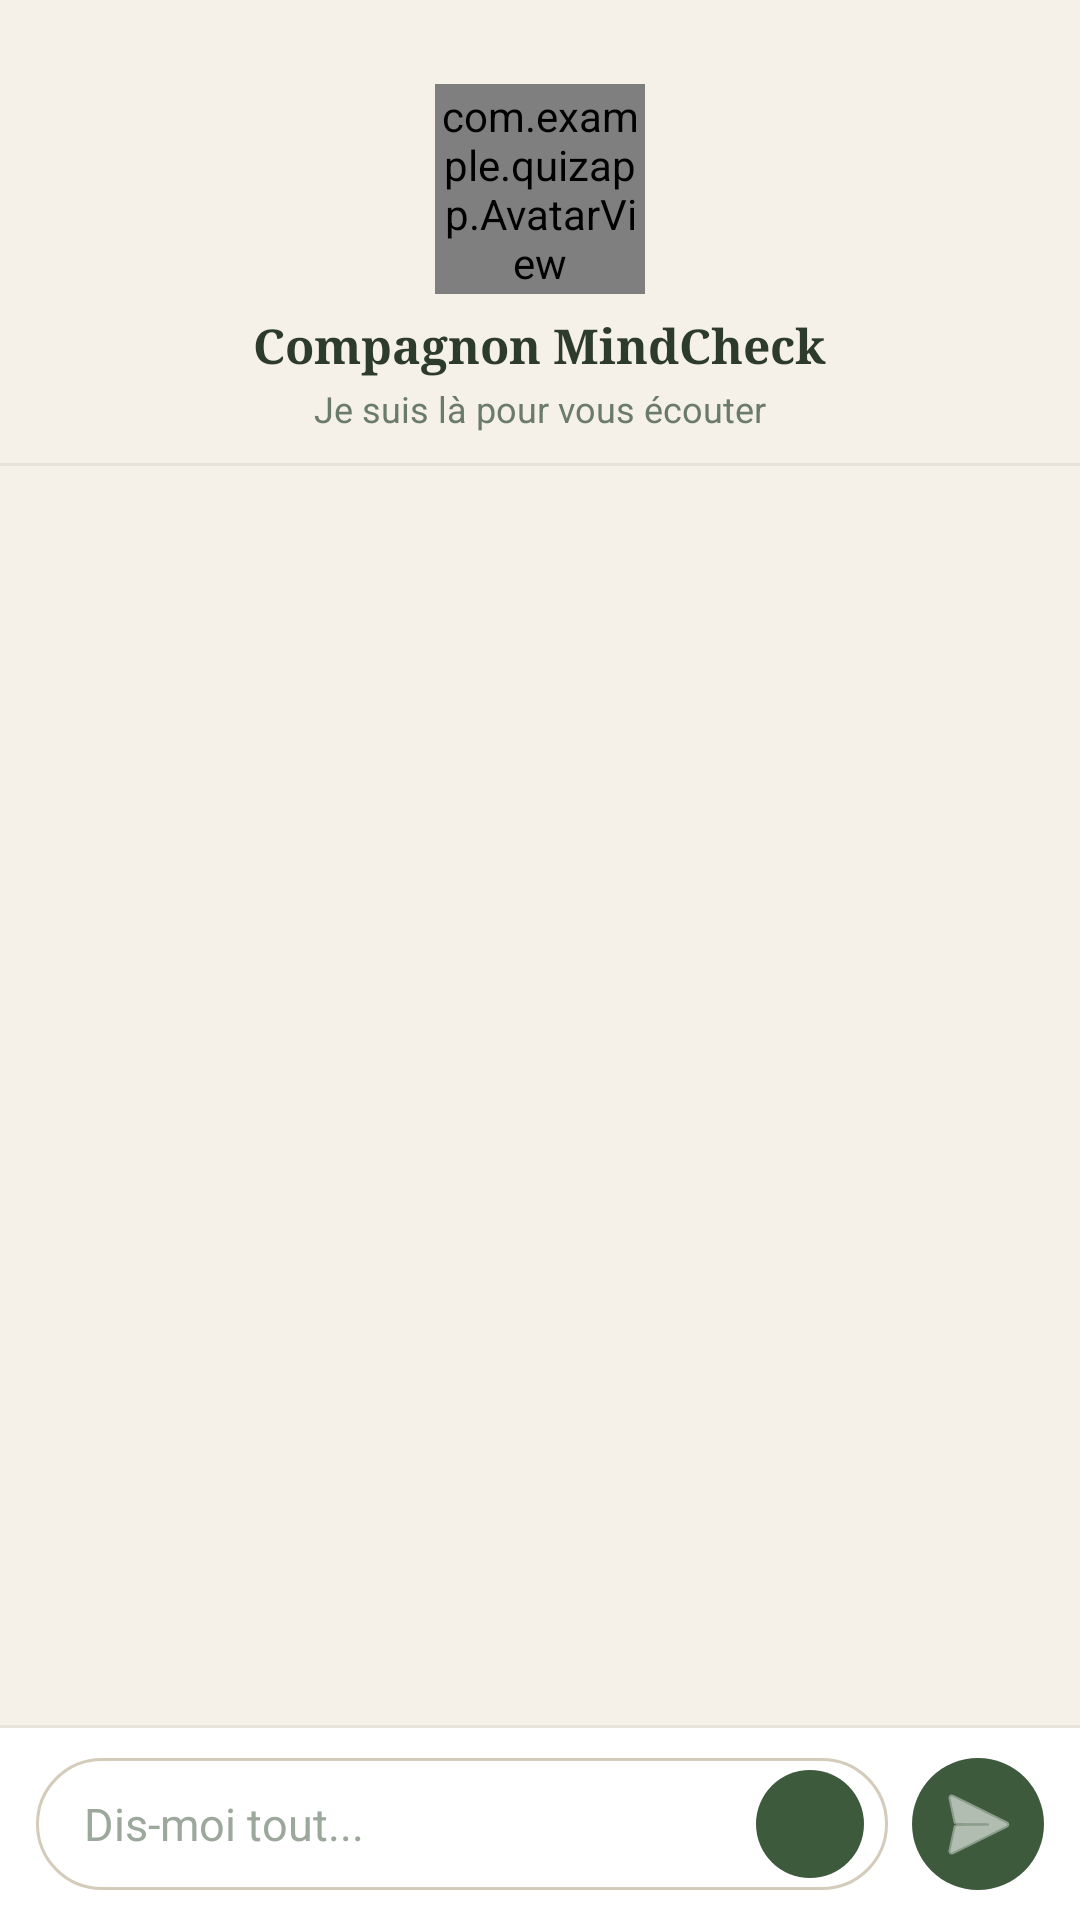

Locate icon controls on the screen. Image size 1080px x 1920px, boxes as (x1, y1, x2, y2).
Envoyer: (948, 1794, 1010, 1855)
